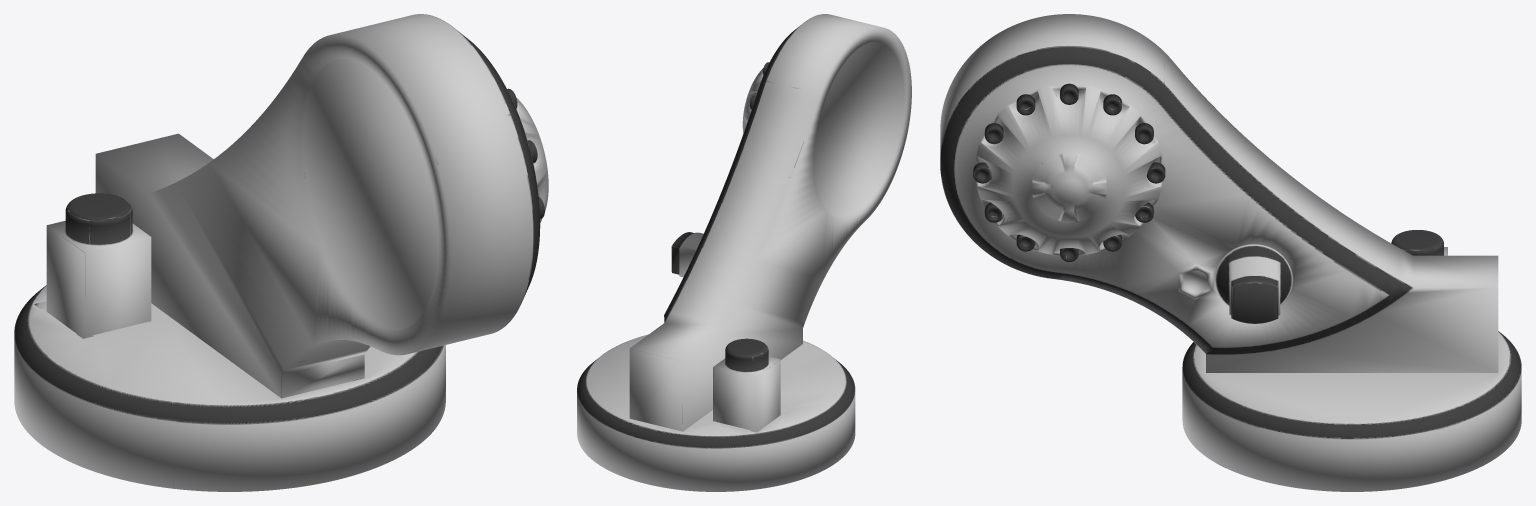
The model's file is obrot.obj.
3 renders of one model, left to right at view 1: azimuth 30°, elevation 25°; view 2: azimuth 150°, elevation 25°; view 3: azimuth 270°, elevation 25°, orthographic. The views are drawn at different scales.
Parts seen in each view (by area): view 1: obrot; view 2: obrot; view 3: obrot.
Boxes of the visible parts, <box> form: obrot: <box>14,14,548,491</box>; obrot: <box>577,14,911,491</box>; obrot: <box>940,14,1521,491</box>.
Size of the model in its own units: 4.81 by 6.11 by 8.25.
1 material, 1 textured.
